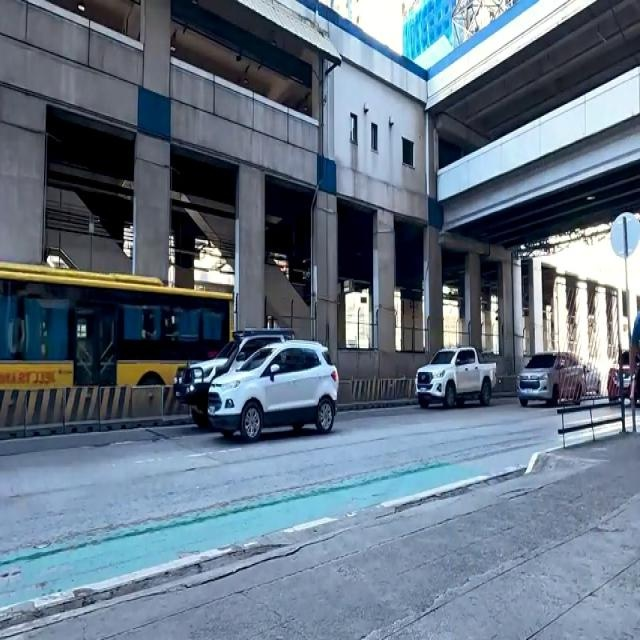bus: (0, 276, 241, 429)
car: (206, 333, 320, 447), (411, 337, 505, 411), (512, 351, 581, 418)
